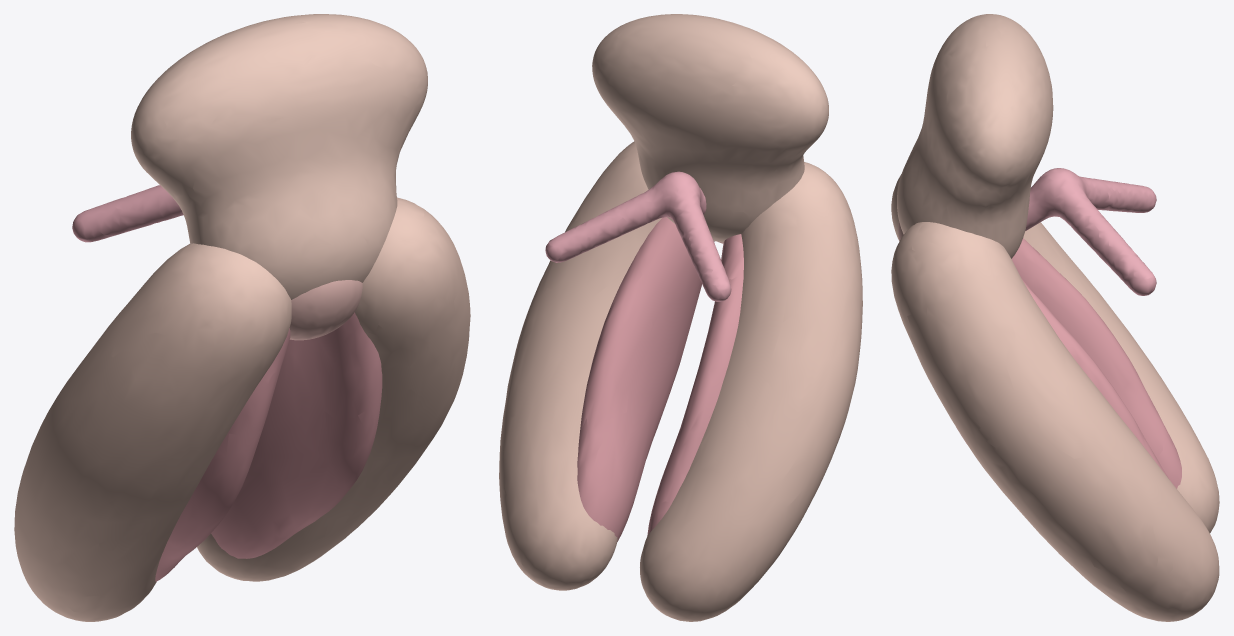
File: anatomyverse-vulva.glb
3 renders of one model, left to right at view 1: azimuth 30°, elevation 25°; view 2: azimuth 150°, elevation 25°; view 3: azimuth 270°, elevation 25°, orthographic. The views are drawn at different scales.
Parts seen in each view (by area): view 1: vulva_labia_majora, vulva_mons, vulva_labia_minora, vulva_clitoris, vulva_clitoral_hood; view 2: vulva_labia_majora, vulva_mons, vulva_labia_minora, vulva_clitoris; view 3: vulva_labia_majora, vulva_mons, vulva_labia_minora, vulva_clitoris.
Boxes of the visible parts, x1,y1,x2,y2 form: vulva_labia_majora: (14,197,470,621); vulva_mons: (131,14,427,299); vulva_labia_minora: (155,312,382,581); vulva_clitoris: (72,185,183,242); vulva_clitoral_hood: (289,280,362,340); vulva_labia_majora: (499,141,862,621); vulva_mons: (592,14,828,242); vulva_labia_minora: (577,217,743,541); vulva_clitoris: (545,171,731,301); vulva_labia_majora: (891,174,1219,621); vulva_mons: (897,14,1053,258); vulva_labia_minora: (956,238,1181,488); vulva_clitoris: (1025,168,1156,295).
Bounding box in the file's own units: 0.0548 × 0.0859 × 0.0467.
